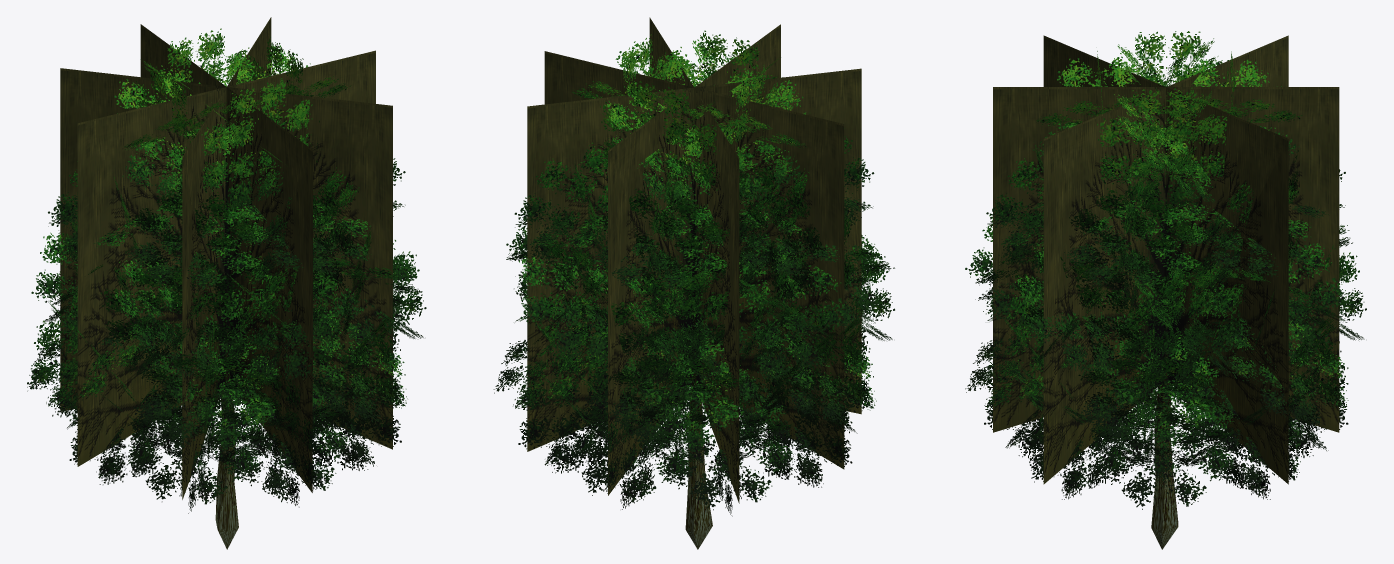
The model's file is iep_2.fbx.
The picture shows the model from 3 angles, left to right: view 1: azimuth 30°, elevation 25°; view 2: azimuth 150°, elevation 25°; view 3: azimuth 270°, elevation 25°; orthographic projection.
Parts seen in each view (by area): view 1: iep_2; view 2: iep_2; view 3: iep_2.
Part boxes in pixels (bbox=[...]): iep_2: bbox=[27, 17, 426, 549]; iep_2: bbox=[493, 17, 894, 549]; iep_2: bbox=[965, 31, 1366, 549].
Size of the model in its own units: 1556 by 1828 by 1463.
